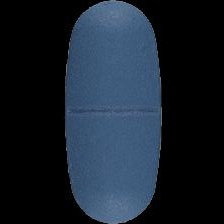54868-3043: (0, 0, 224, 224)
